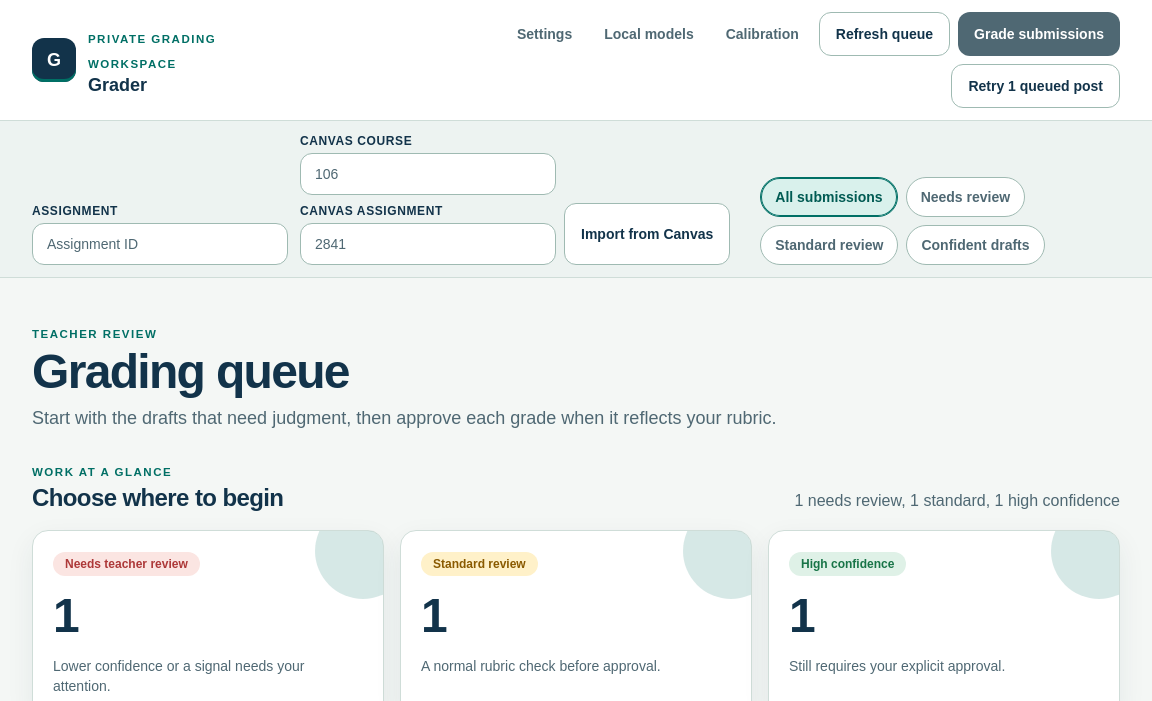
it: the offline post queue › says when an entry has given up, rather than leaving it sitting silently
The width and height of the screenshot is (1152, 701).
Click the button "Retry 1 queued post" at (1036, 86), box [951,64,1120,108]
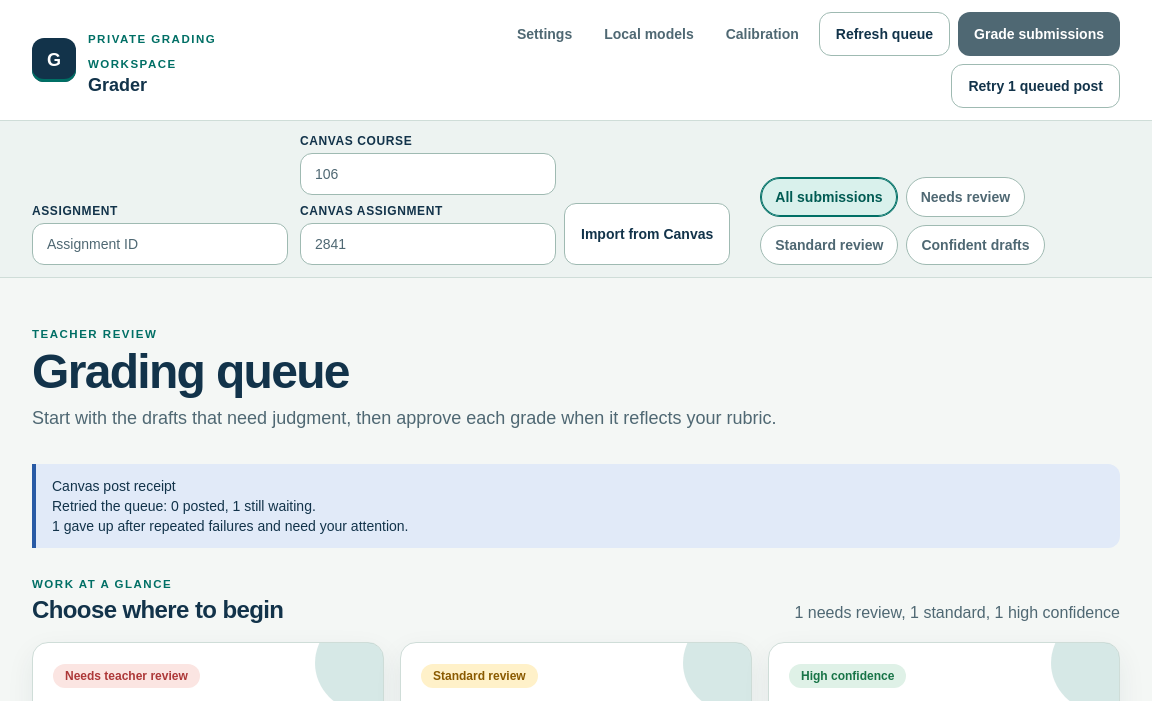
Expected: the list item "1 gave up after repeated failures and need your attention." is shown, [52,516,408,536]
